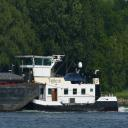tugboat: (15, 55, 120, 115)
